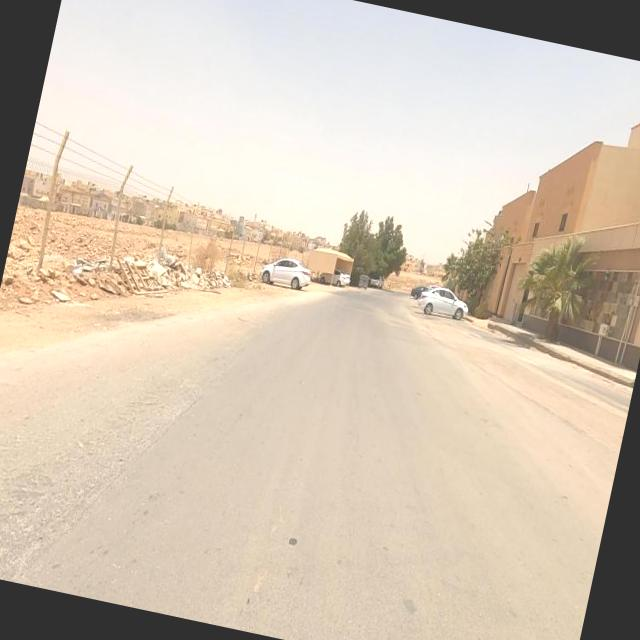debris: (65, 185, 226, 364), (11, 182, 158, 366), (145, 208, 277, 346)
